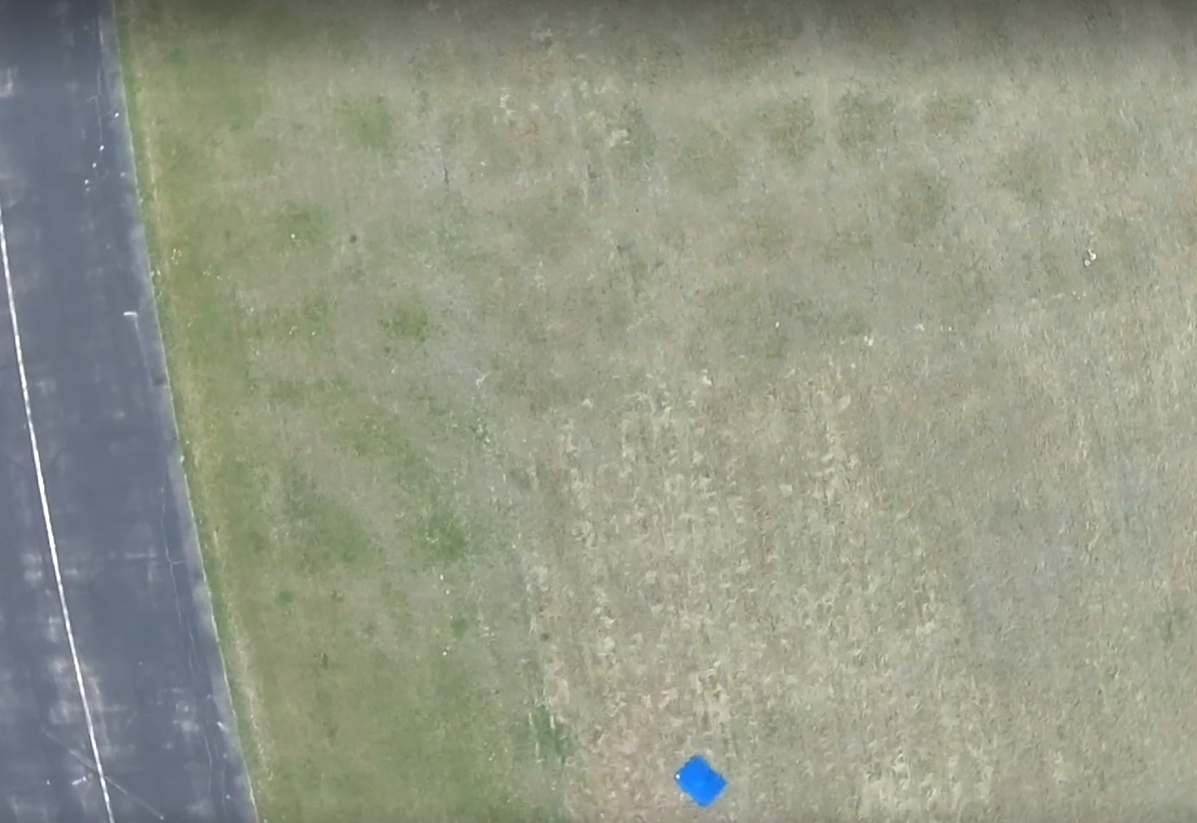TOI: (674, 752, 728, 808)
